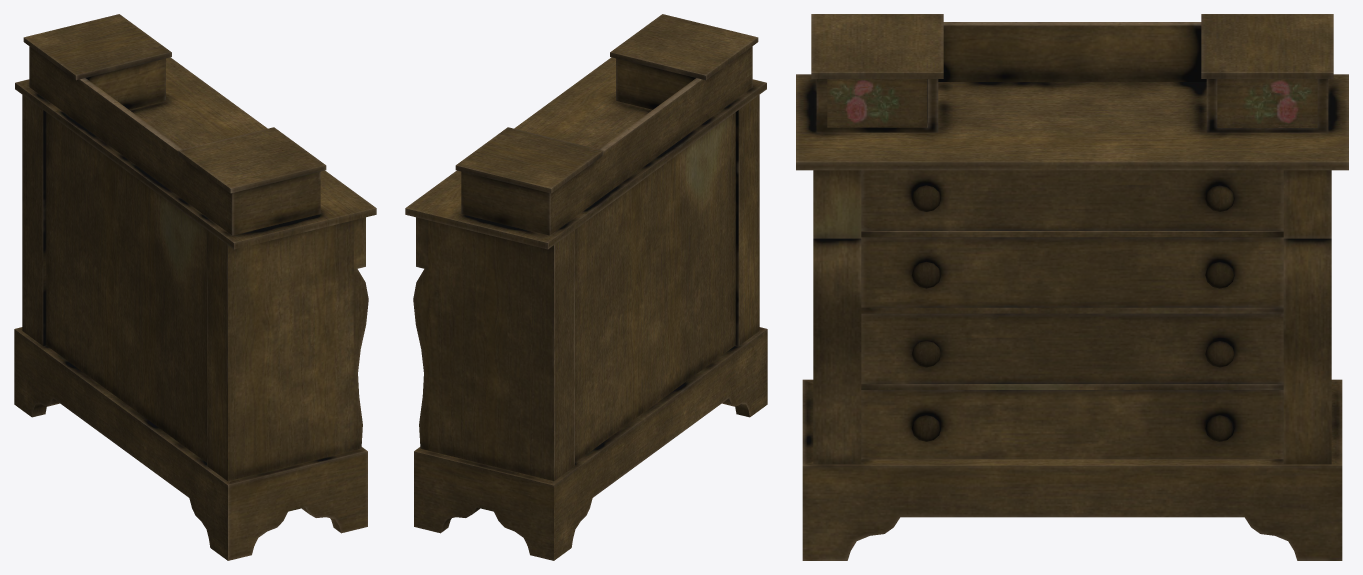
The model's file is chest_of_drawers.FBX.
The picture shows the model from 3 angles, left to right: view 1: azimuth 30°, elevation 25°; view 2: azimuth 150°, elevation 25°; view 3: azimuth 270°, elevation 25°; orthographic projection. The views are drawn at different scales.
Visible parts, largest first — view 1: chest_of_drawers; view 2: chest_of_drawers; view 3: chest_of_drawers, drawers_4, drawers_5, drawers_6, drawers_3, drawers_1, drawers_2.
Part boxes in pixels (x1=…): chest_of_drawers: x1=14, y1=14, x2=376, y2=560; chest_of_drawers: x1=405, y1=14, x2=767, y2=560; chest_of_drawers: x1=796, y1=14, x2=1348, y2=560; drawers_4: x1=861, y1=237, x2=1283, y2=307; drawers_5: x1=861, y1=313, x2=1283, y2=383; drawers_6: x1=861, y1=390, x2=1283, y2=459; drawers_3: x1=861, y1=170, x2=1283, y2=230; drawers_1: x1=1217, y1=79, x2=1317, y2=127; drawers_2: x1=827, y1=79, x2=927, y2=127.
Size of the model in its own units: 0.374 by 0.9003 by 0.9715.
Materials: 1 (1 with a texture image).
